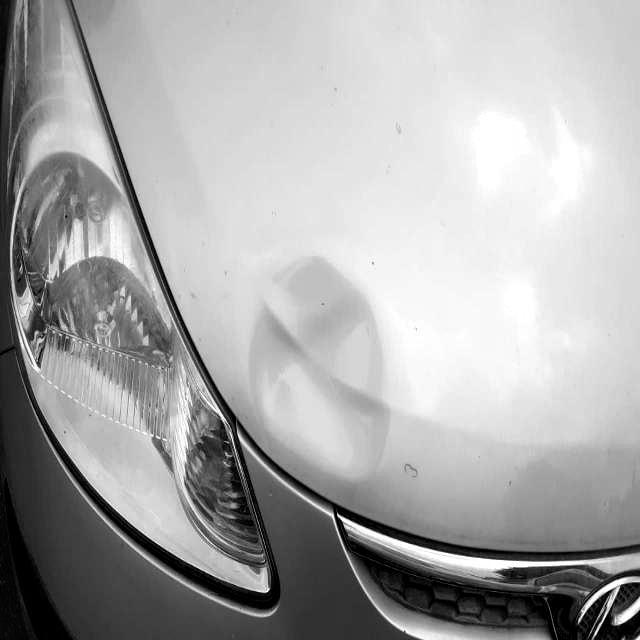bonnet-dent: (129, 161, 559, 555)
